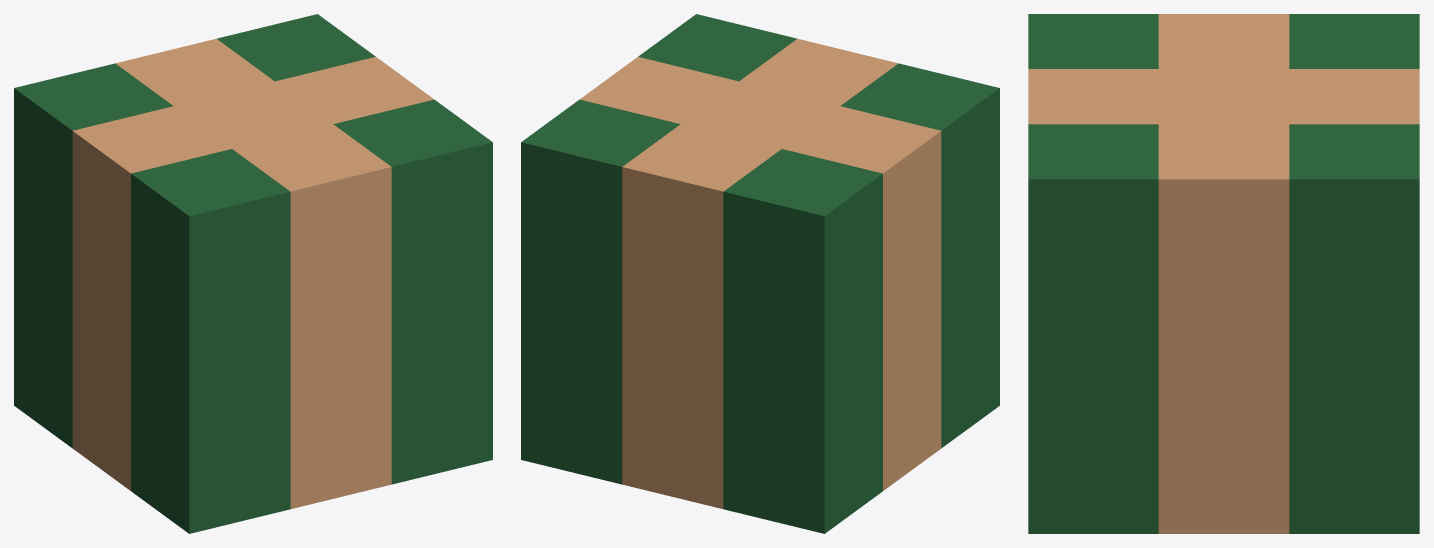
File: CrossroadsPathForest(MODEL).fbx
3 views of the same model, side by side, from view 1: azimuth 30°, elevation 25°; view 2: azimuth 150°, elevation 25°; view 3: azimuth 270°, elevation 25° (orthographic). The views are drawn at different scales.
Visible parts, largest first — view 1: PPPP(F)Tile; view 2: PPPP(F)Tile; view 3: PPPP(F)Tile.
Boxes of the visible parts, <box> form: PPPP(F)Tile: <box>14,14,492,533</box>; PPPP(F)Tile: <box>521,14,999,533</box>; PPPP(F)Tile: <box>1028,14,1419,533</box>.
Size of the model in its own units: 200 by 200 by 200.
